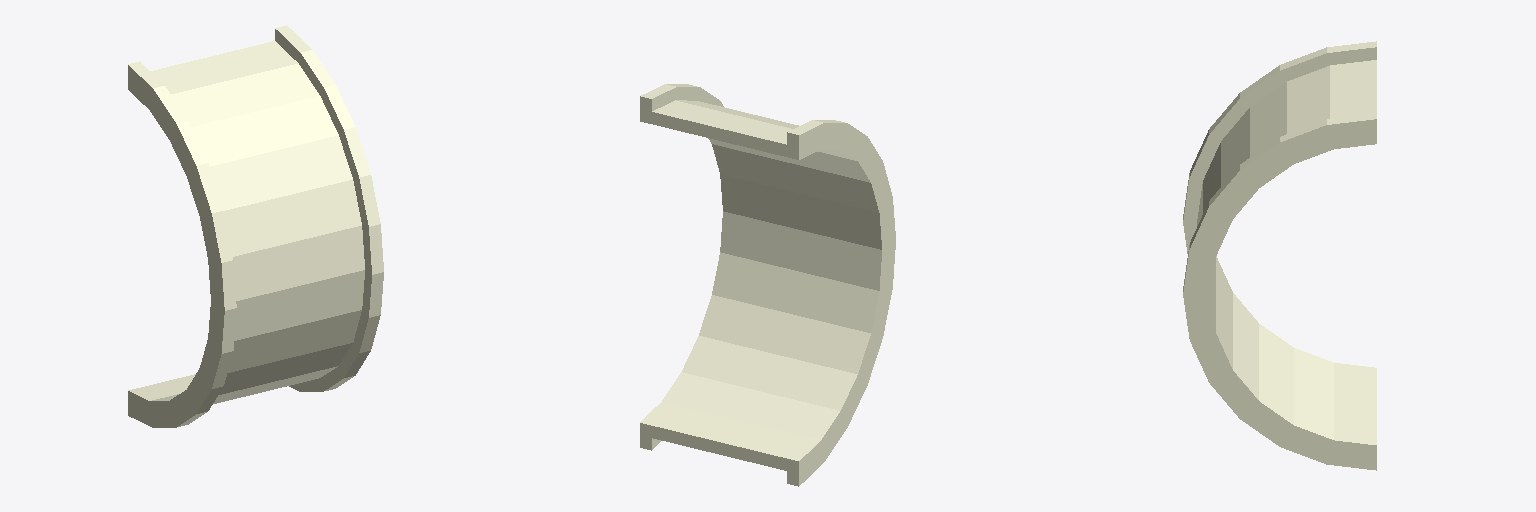
Rendered from section_030.obj.
The picture shows the model from 3 angles: view 1: azimuth 30°, elevation 25°; view 2: azimuth 150°, elevation 25°; view 3: azimuth 270°, elevation 25°; orthographic projection.
Bounding box in the file's own units: 13.29 × 28 × 14.